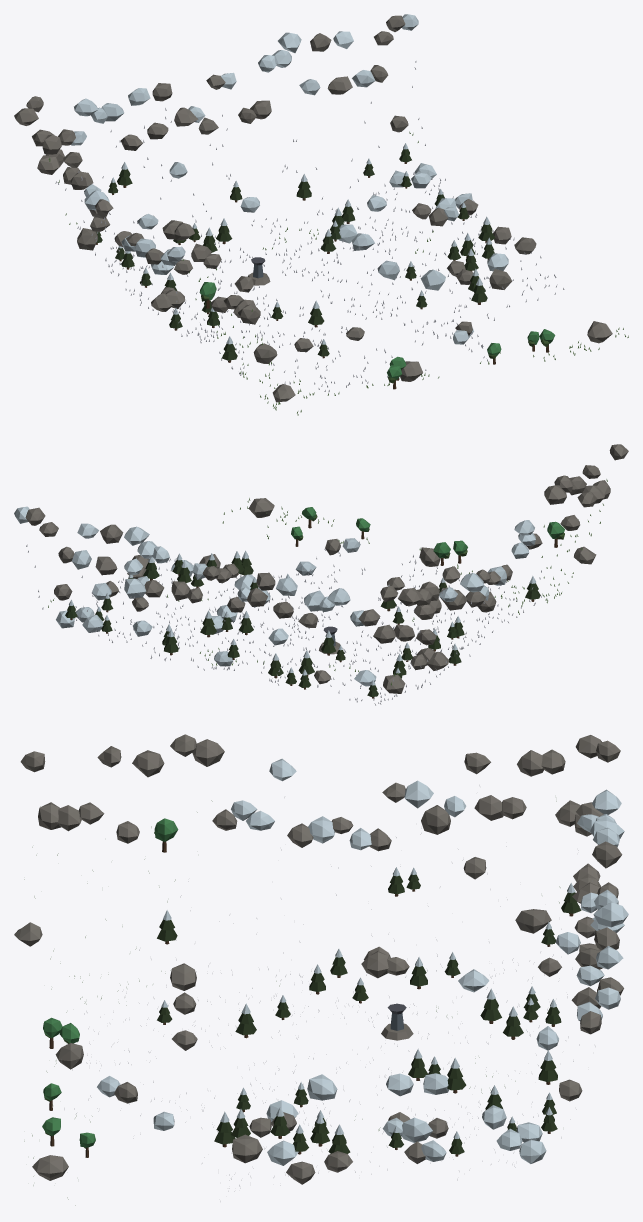
Rendered from scenery-0.glb.
3 renders of one model, top to bottom at view 1: azimuth 30°, elevation 25°; view 2: azimuth 150°, elevation 25°; view 3: azimuth 270°, elevation 25°, orthographic. The views are drawn at different scales.
Parts seen in each view (by area): view 1: Sector_3_0, Sector_0_0, Sector_1_0, Sector_2_0, Sector_0_1, Sector_0_3, Sector_3_2, Sector_0_2, Sector_3_1, Sector_2_1, Sector_2_2, Sector_1_3 (+4 smaller); view 2: Sector_3_0, Sector_1_0, Sector_0_0, Sector_0_1, Sector_2_0, Sector_0_3, Sector_0_2, Sector_3_1, Sector_3_2, Sector_2_1, Sector_1_3, Sector_2_3 (+4 smaller); view 3: Sector_0_1, Sector_0_0, Sector_3_0, Sector_1_0, Sector_0_2, Sector_0_3, Sector_3_2, Sector_2_0, Sector_3_1, Sector_2_1, Sector_2_2, Sector_1_3 (+4 smaller).
Boxes of the visible parts, x1=… form: Sector_3_0: x1=310, y1=14, x2=445, y2=211; Sector_0_0: x1=14, y1=96, x2=143, y2=276; Sector_1_0: x1=101, y1=83, x2=240, y2=252; Sector_2_0: x1=206, y1=32, x2=355, y2=244; Sector_0_1: x1=63, y1=152, x2=197, y2=330; Sector_0_3: x1=191, y1=243, x2=307, y2=415; Sector_3_2: x1=422, y1=233, x2=564, y2=320; Sector_0_2: x1=135, y1=213, x2=277, y2=369; Sector_3_1: x1=365, y1=189, x2=511, y2=260; Sector_2_1: x1=262, y1=207, x2=396, y2=282; Sector_2_2: x1=320, y1=260, x2=461, y2=333; Sector_1_3: x1=284, y1=339, x2=423, y2=395; Sector_3_0: x1=14, y1=506, x2=154, y2=649; Sector_1_0: x1=227, y1=572, x2=362, y2=693; Sector_0_0: x1=319, y1=581, x2=441, y2=705; Sector_0_1: x1=393, y1=566, x2=500, y2=689; Sector_2_0: x1=124, y1=526, x2=247, y2=670; Sector_0_3: x1=505, y1=444, x2=628, y2=614; Sector_0_2: x1=428, y1=475, x2=573, y2=656; Sector_3_1: x1=75, y1=557, x2=208, y2=633; Sector_3_2: x1=132, y1=550, x2=253, y2=596; Sector_2_1: x1=177, y1=605, x2=309, y2=664; Sector_1_3: x1=401, y1=540, x2=516, y2=598; Sector_2_3: x1=295, y1=518, x2=420, y2=577; Sector_0_1: x1=330, y1=752, x2=490, y2=997; Sector_0_0: x1=474, y1=735, x2=621, y2=983; Sector_3_0: x1=482, y1=927, x2=623, y2=1167; Sector_1_0: x1=480, y1=816, x2=624, y2=1044; Sector_0_2: x1=170, y1=734, x2=334, y2=994; Sector_0_3: x1=14, y1=746, x2=178, y2=999; Sector_3_2: x1=202, y1=1107, x2=329, y2=1201; Sector_2_0: x1=485, y1=882, x2=628, y2=1117; Sector_3_1: x1=324, y1=1112, x2=482, y2=1180; Sector_2_1: x1=336, y1=1047, x2=482, y2=1116; Sector_2_2: x1=179, y1=1054, x2=337, y2=1127; Sector_1_3: x1=43, y1=997, x2=172, y2=1069.
Bounding box in the file's own units: 31.78 × 13.5 × 32.02.
Materials: 1 (1 with a texture image).
